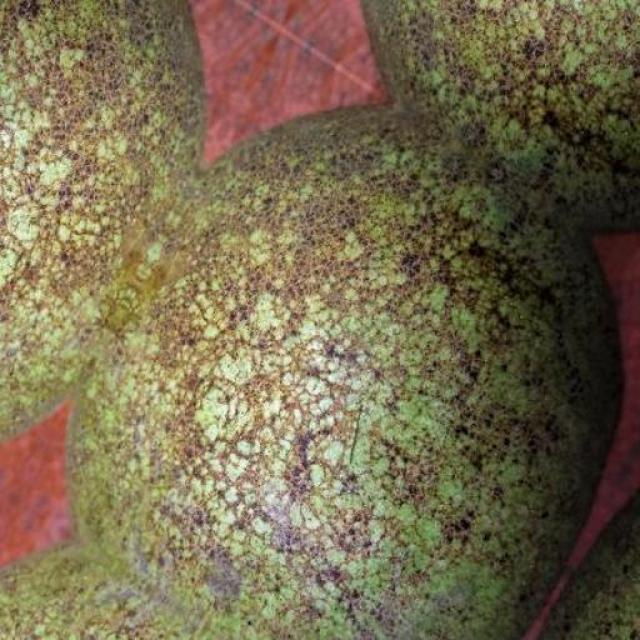Scab: (81, 108, 619, 640), (0, 0, 201, 433)
